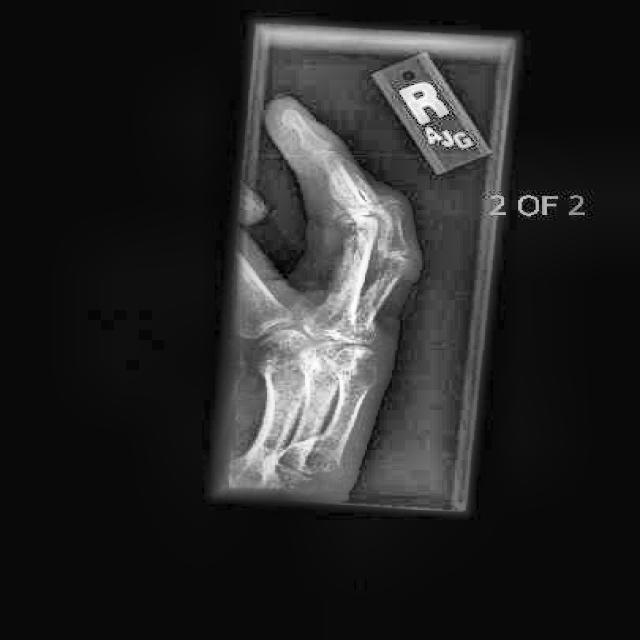fingers positive: (331, 218, 370, 258), (379, 193, 415, 230)
